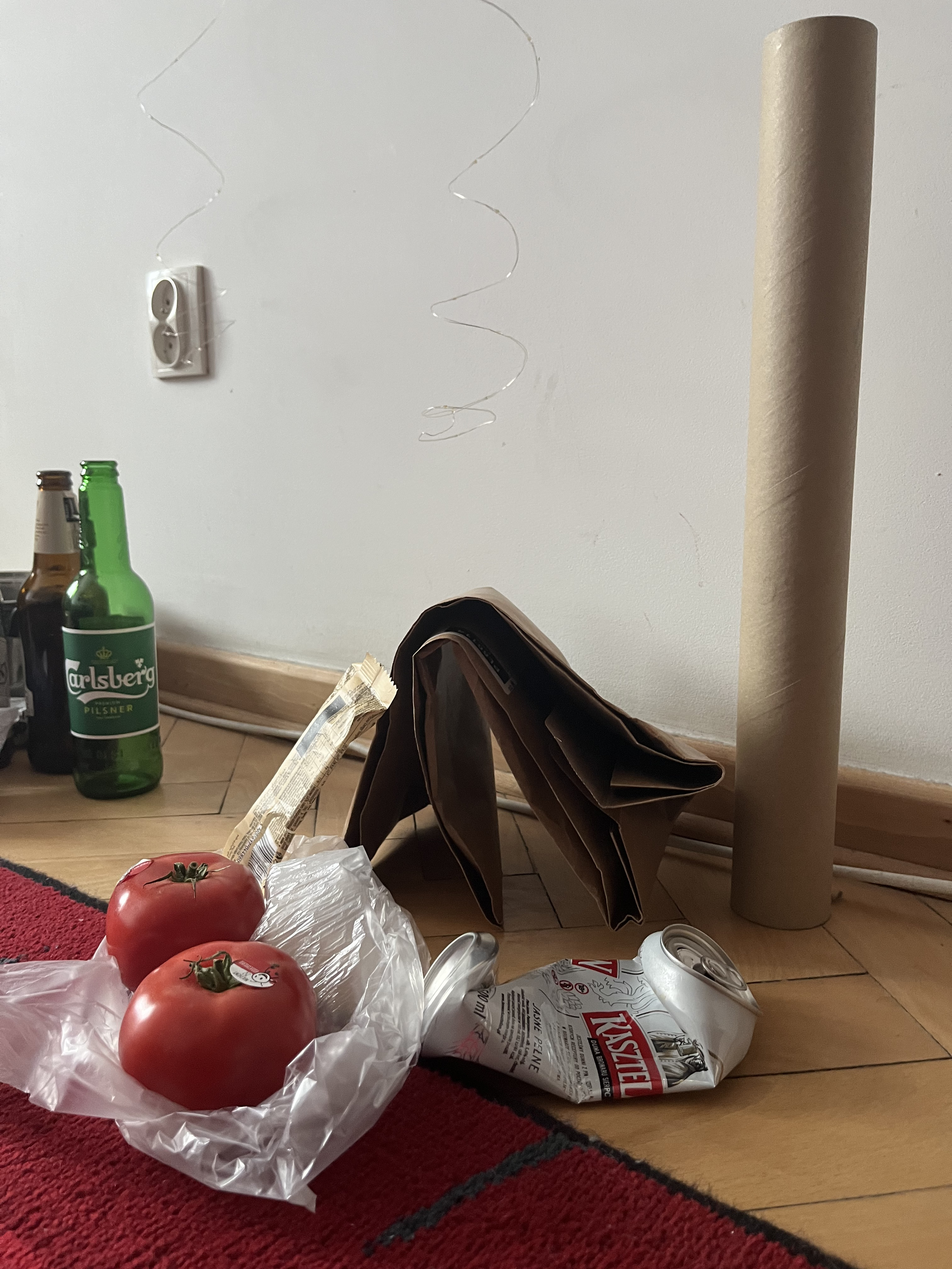BIODEGRADABLE: (121, 938, 317, 1150), (110, 849, 272, 1010)
CARDBOARD: (721, 19, 884, 930), (358, 584, 717, 921)
GLASS: (68, 447, 178, 797), (10, 453, 89, 806)
METAL: (409, 926, 773, 1104), (354, 651, 451, 870)
PLASTIC: (3, 859, 431, 1196)
